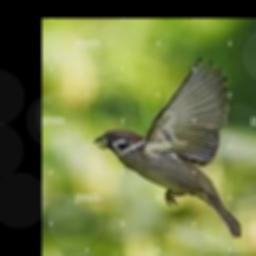Sparrow: (94, 58, 241, 237)
